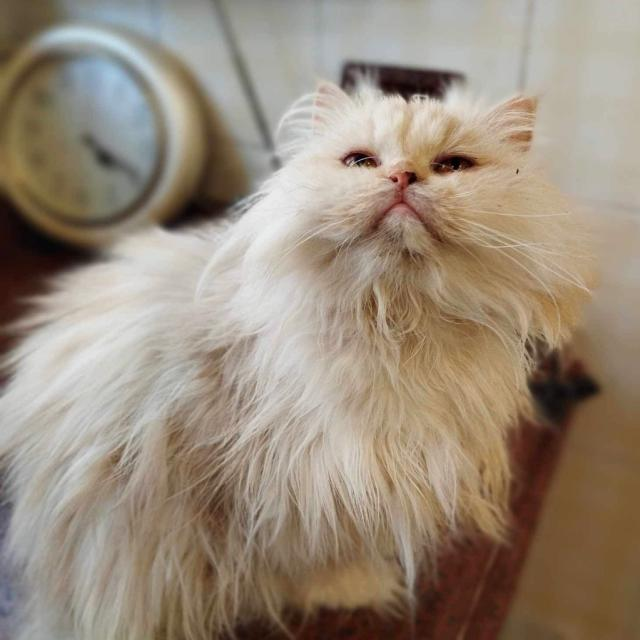persian_cat: (244, 60, 566, 383)
